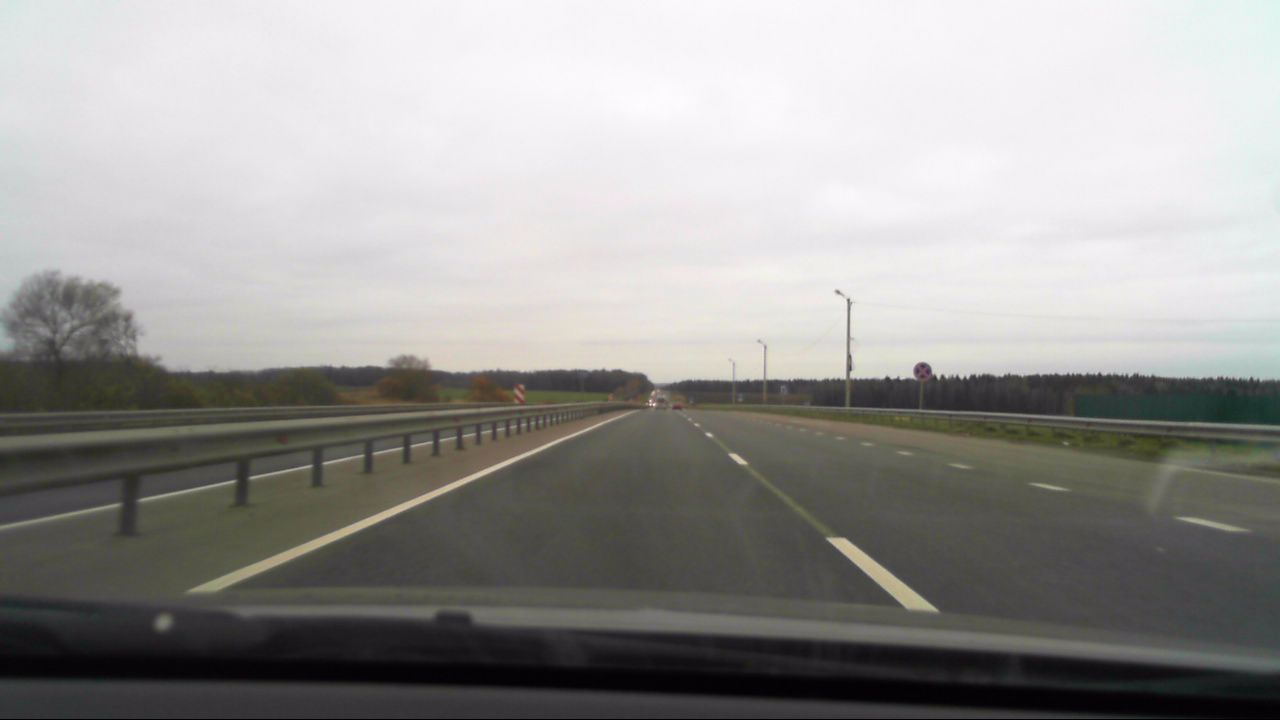No Parking: (911, 359, 933, 383)
